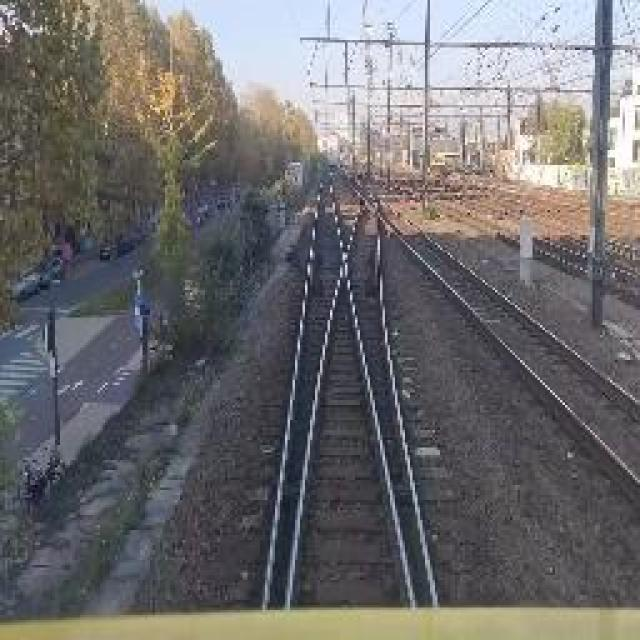rail: (240, 162, 459, 610)
